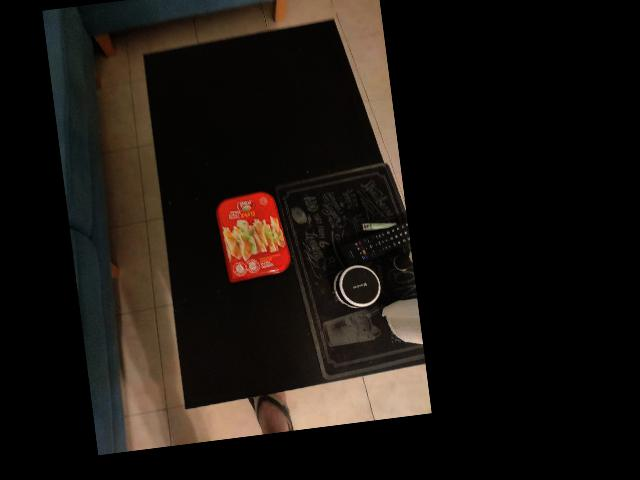cheese: (212, 188, 290, 292)
